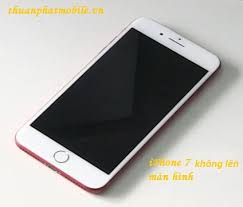iphone: (12, 10, 222, 195)
iphone7: (12, 9, 222, 194)
